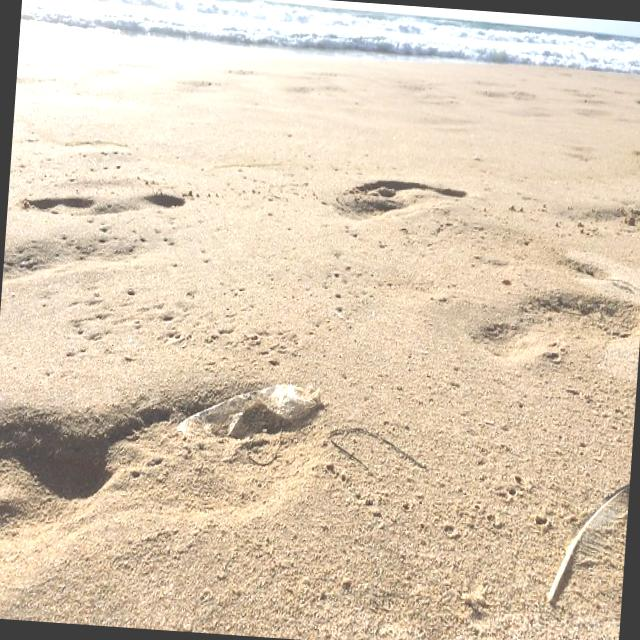Trash: (192, 370, 324, 427)
